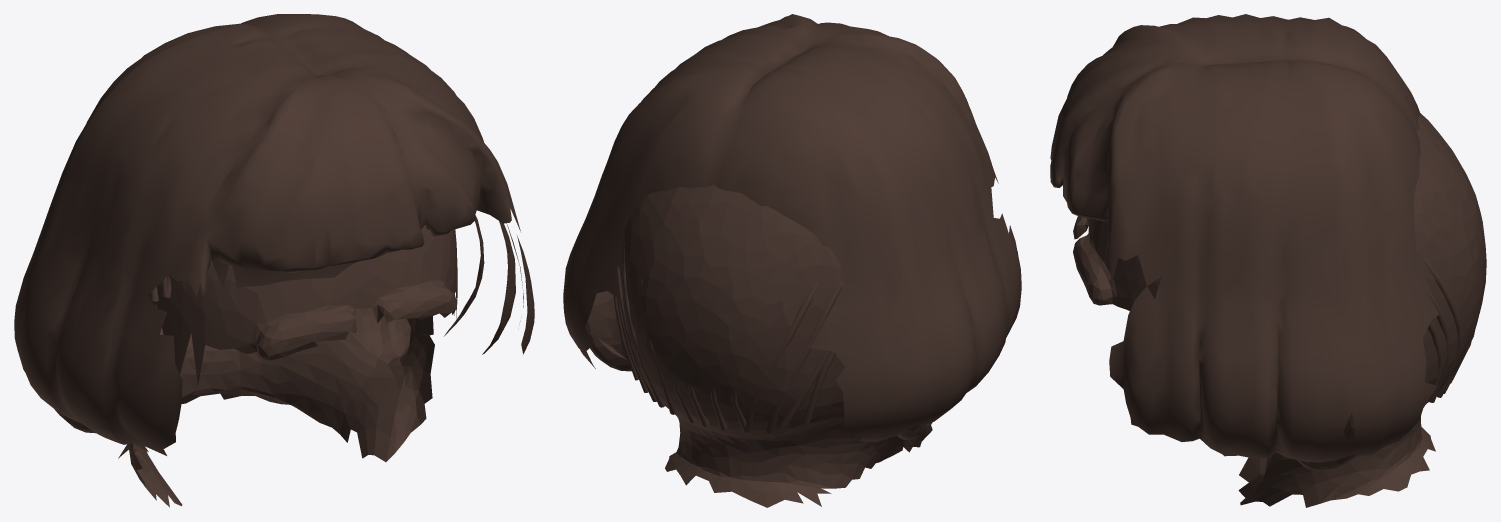
Rendered from blunt-bob.glb.
The picture shows the model from 3 angles, left to right: view 1: azimuth 30°, elevation 25°; view 2: azimuth 150°, elevation 25°; view 3: azimuth 270°, elevation 25°; orthographic projection. The views are drawn at different scales.
Visible parts, largest first — view 1: Hair, HairScalp; view 2: Hair, HairScalp, HairPulledRootStrands; view 3: Hair, HairScalp, HairPulledRootStrands.
Boxes of the visible parts, left/top/right/bottom form: Hair: left=14, top=14, right=534, bottom=455; HairScalp: left=54, top=225, right=457, bottom=507; Hair: left=563, top=14, right=1021, bottom=441; HairScalp: left=585, top=185, right=932, bottom=507; HairPulledRootStrands: left=613, top=239, right=843, bottom=433; Hair: left=1050, top=14, right=1439, bottom=462; HairScalp: left=1073, top=113, right=1486, bottom=507; HairPulledRootStrands: left=1421, top=254, right=1477, bottom=402.
Bounding box in the file's own units: 0.5132 × 0.4855 × 0.4547.
